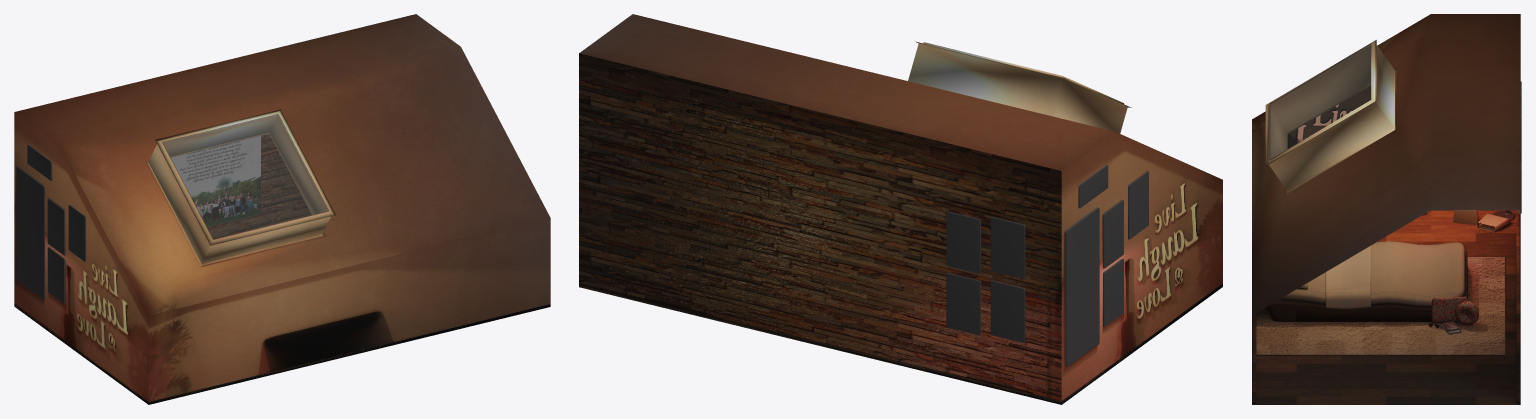
The model's file is bedroom.glb.
The picture shows the model from 3 angles, left to right: view 1: azimuth 30°, elevation 25°; view 2: azimuth 150°, elevation 25°; view 3: azimuth 270°, elevation 25°; orthographic projection. The views are drawn at different scales.
Visible parts, largest first — view 1: LoftBedroom, LoftBedroom_Picture2_0.008, LoftBedroom_Frames_0, LoftBedroom_Frames_0.001, LoftBedroom_Frames_0.006; view 2: LoftBedroom, LoftBedroom_Frames_0, LoftBedroom_Frames_0.002, LoftBedroom_Frames_0.004, LoftBedroom_Frames_0.005, LoftBedroom_Frames_0.003, LoftBedroom_Frames_0.001, LoftBedroom_Frames_0.006; view 3: LoftBedroom.
Boxes of the visible parts, x1,y1,x2,y2 form: LoftBedroom: (14,14,550,404); LoftBedroom_Picture2_0.008: (171,136,260,226); LoftBedroom_Frames_0: (16,167,65,304); LoftBedroom_Frames_0.001: (68,205,85,261); LoftBedroom_Frames_0.006: (27,144,52,180); LoftBedroom: (579,14,1222,404); LoftBedroom_Frames_0: (1065,200,1123,366); LoftBedroom_Frames_0.002: (990,216,1025,279); LoftBedroom_Frames_0.004: (990,280,1025,342); LoftBedroom_Frames_0.005: (946,273,980,335); LoftBedroom_Frames_0.003: (946,211,980,273); LoftBedroom_Frames_0.001: (1128,171,1148,239); LoftBedroom_Frames_0.006: (1078,165,1108,208); LoftBedroom: (1252,14,1520,404).
Bounding box in the file's own units: 675 × 325 × 391.
28 materials, 25 textured.
